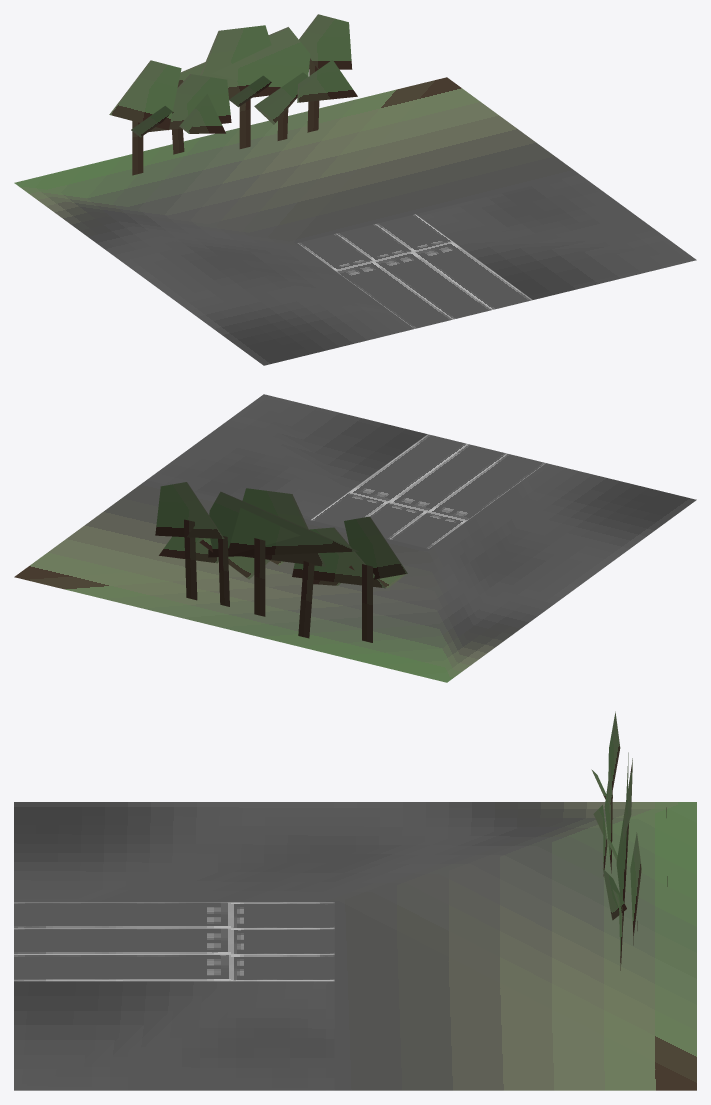
File: stage01.gltf
The picture shows the model from 3 angles, top to bottom: view 1: azimuth 30°, elevation 25°; view 2: azimuth 150°, elevation 25°; view 3: azimuth 270°, elevation 25°; orthographic projection. The views are drawn at different scales.
Parts seen in each view (by area): view 1: Cube; view 2: Cube; view 3: Cube.
Boxes of the visible parts, x1=… form: Cube: x1=14, y1=14, x2=696, y2=365; Cube: x1=14, y1=394, x2=696, y2=682; Cube: x1=14, y1=711, x2=696, y2=1090.
Bounding box in the file's own units: 22.08 × 6.33 × 22.07.
Materials: 1 (1 with a texture image).
